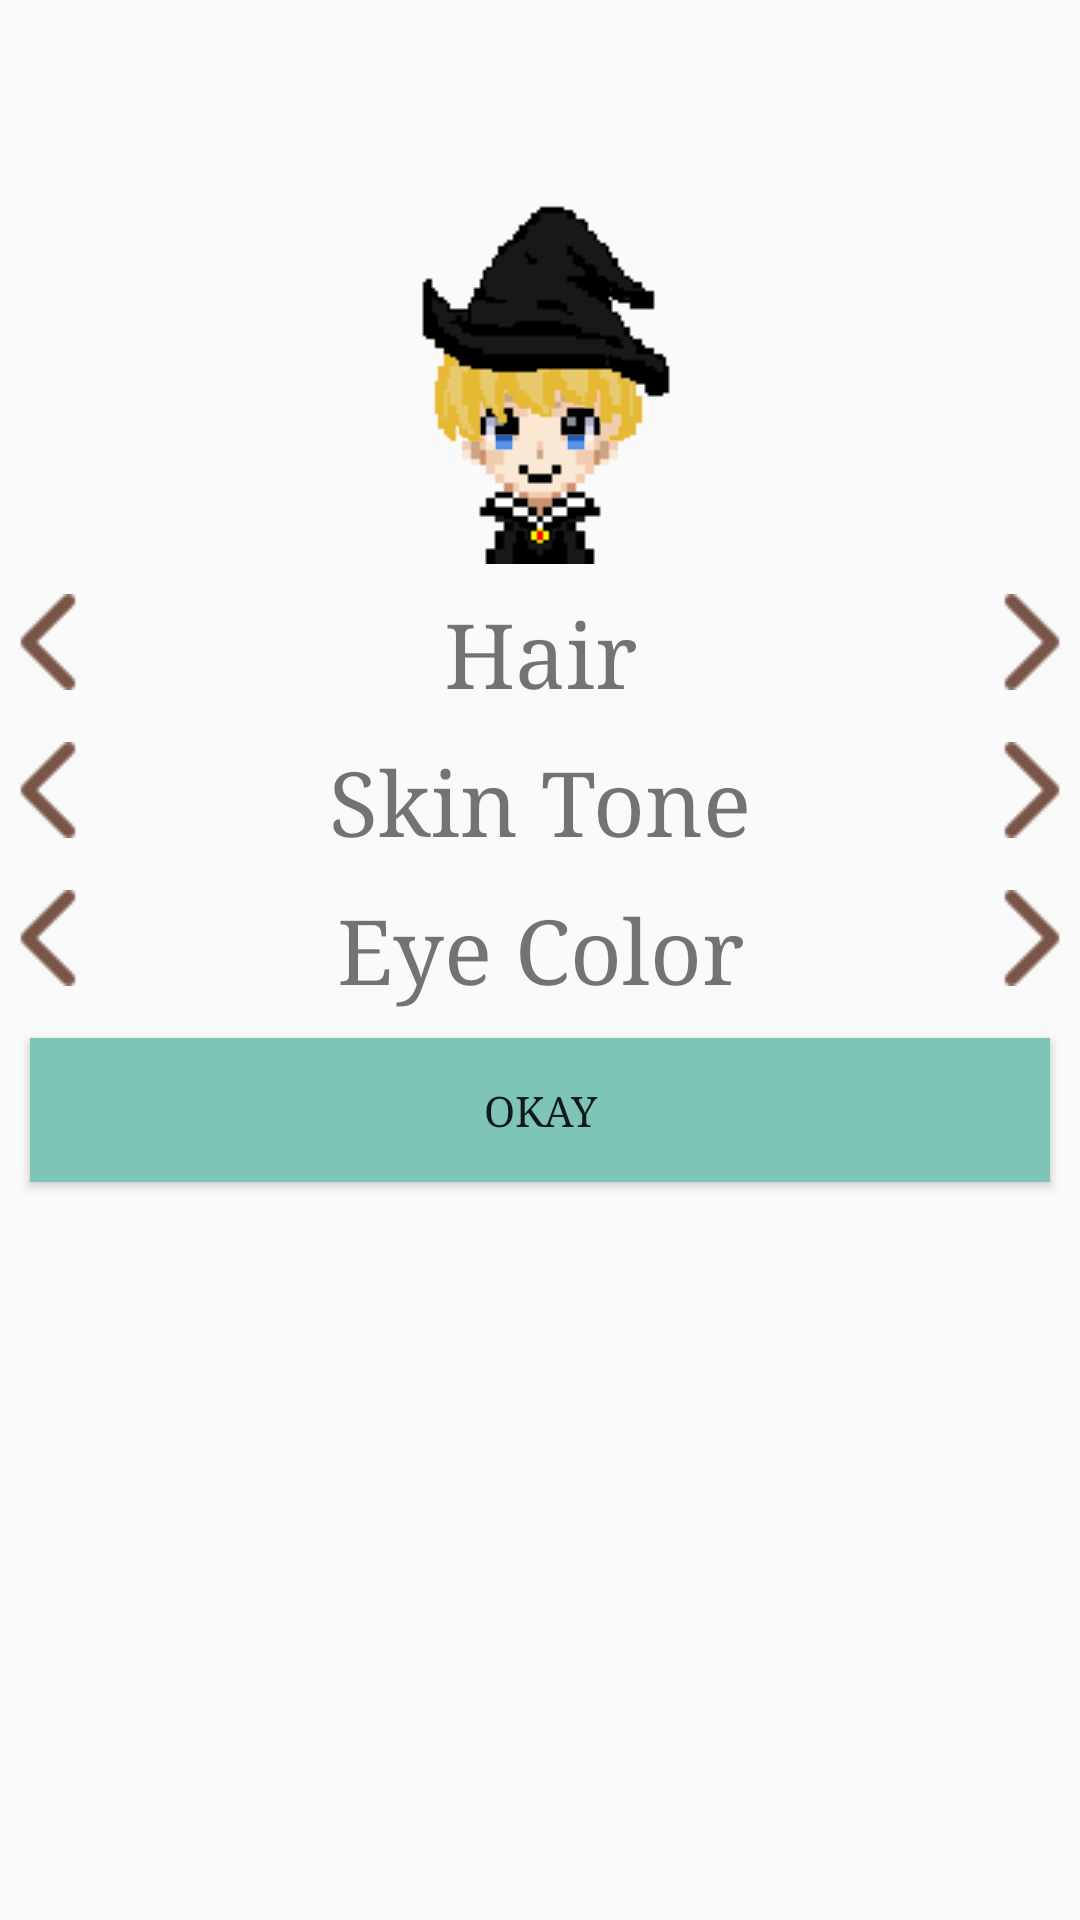

Named icons in this screenshot (1080x1920) and their bounding boxes, detection(x1, y1, x2, y2):
arrow left: detection(20, 594, 76, 690), detection(20, 742, 76, 838), detection(20, 890, 76, 986)
arrow right: detection(1004, 594, 1060, 690), detection(1004, 742, 1060, 838), detection(1004, 890, 1060, 986)
